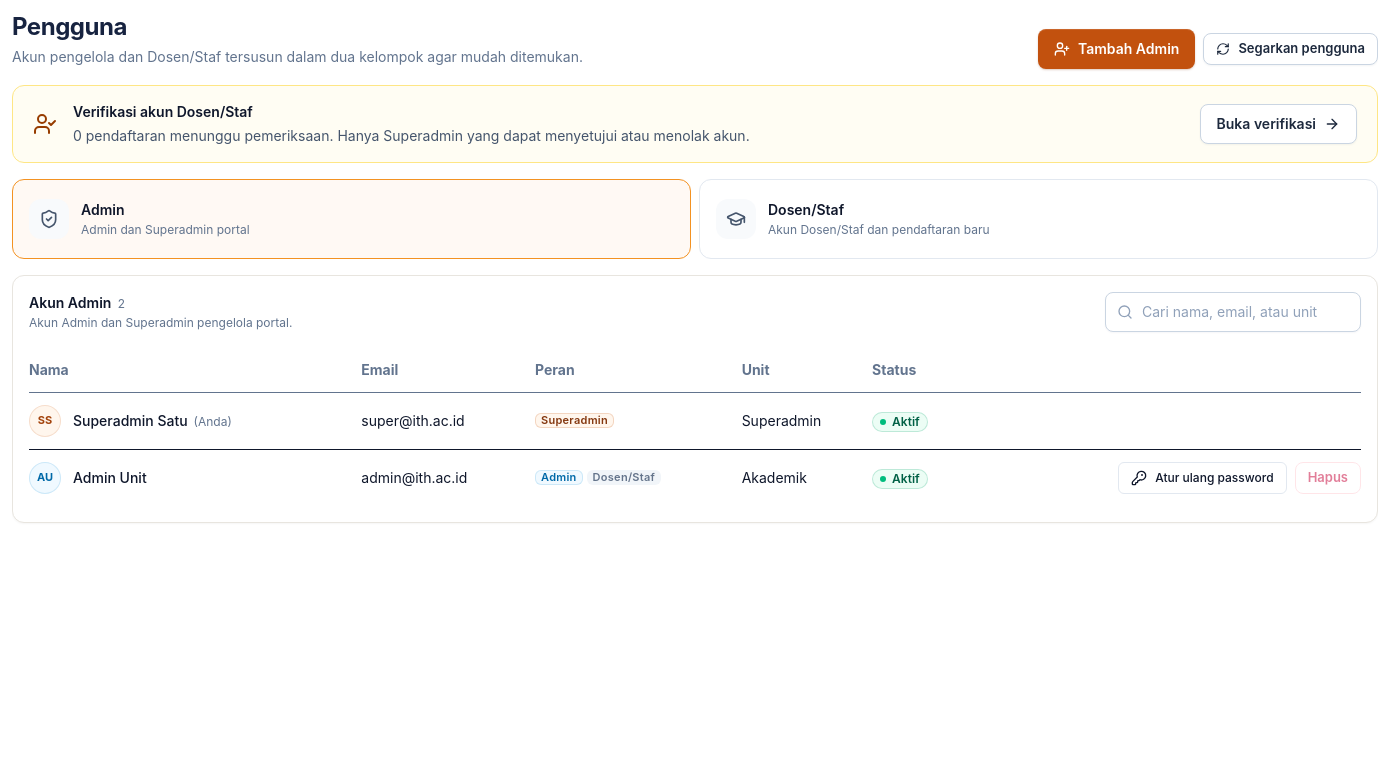
Test: dua kelompok pengguna › memisahkan pengelola dari Dosen/Staf dan mempertahankan pencarian di kelompok aktif
Expected: the column heading "Unit" is shown, [742,348,872,392]
Expected: the text "Dosen Kampus" is not shown
Click the button "Dosen/Staf Akun Dosen/Staf dan pendaftaran baru": x=736, y=219 [699,179,1378,259]
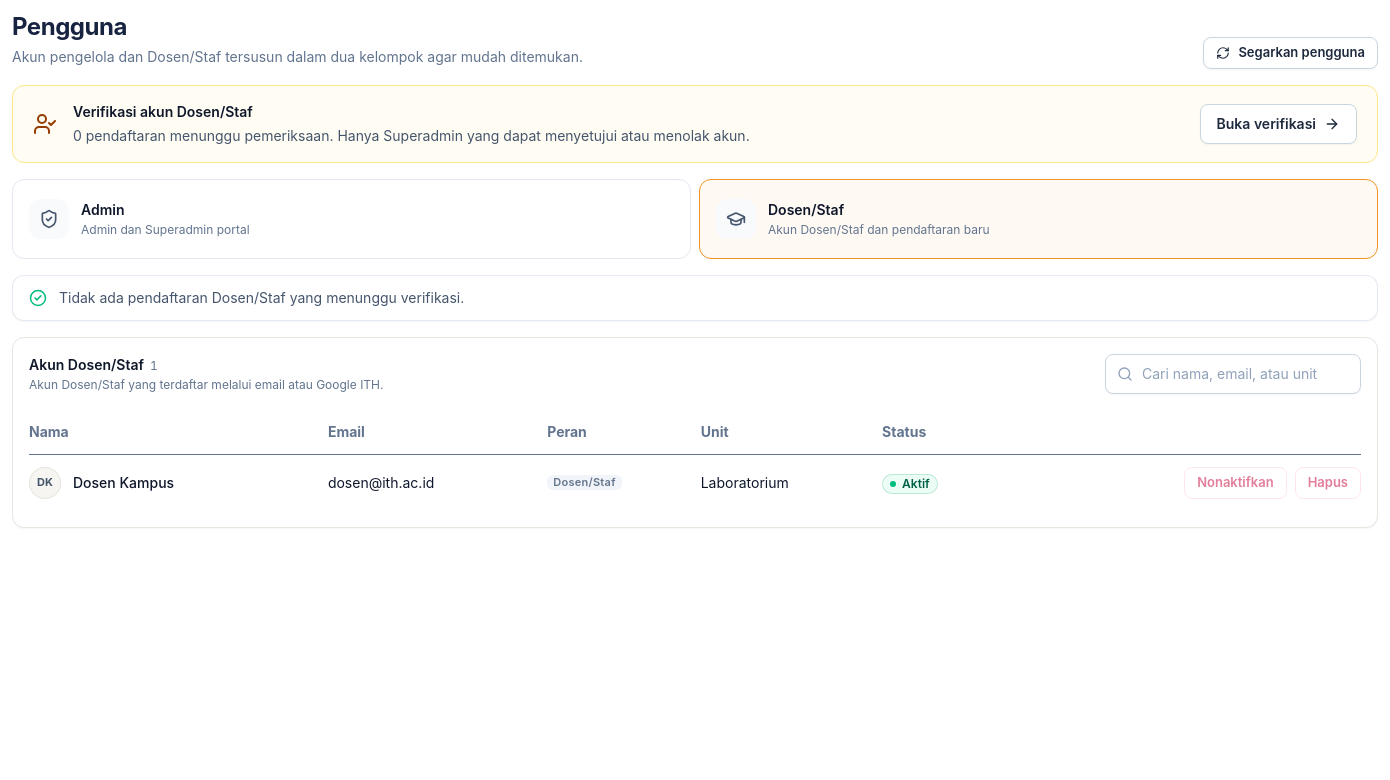
Now the text "Admin Unit" is gone
Now the text "Superadmin Satu" is gone
Now the text "Laboratorium" is shown 2 times
In the search field: x=1233, y=374 [1105,354,1361,394], type "tidak ada"
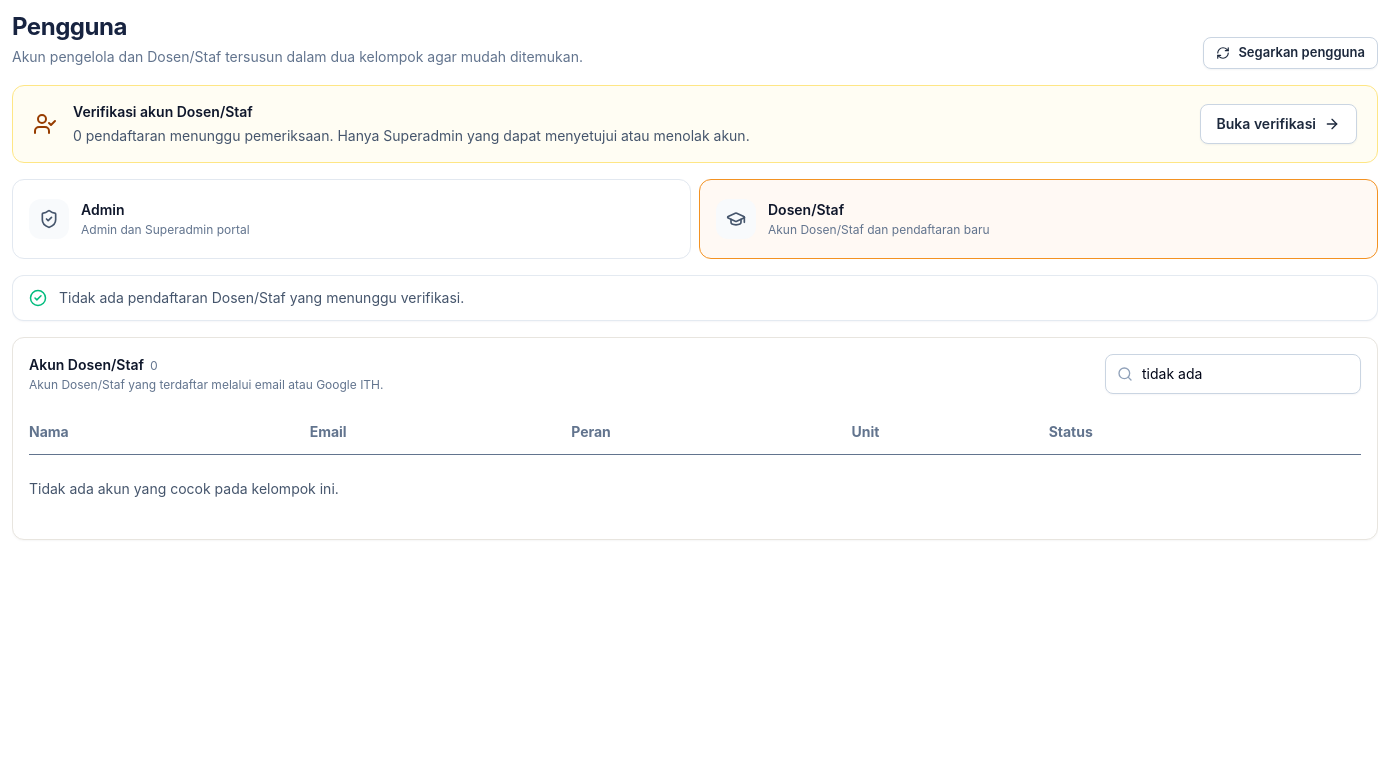
Now the text "Tidak ada akun yang cocok pada kelompok ini." is shown, box [29,480,339,497]
